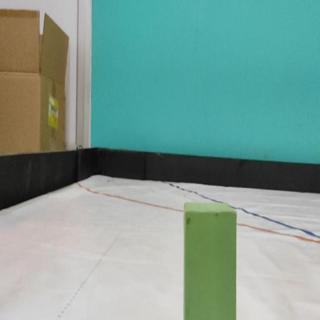greenbox: (183, 200, 238, 320)
